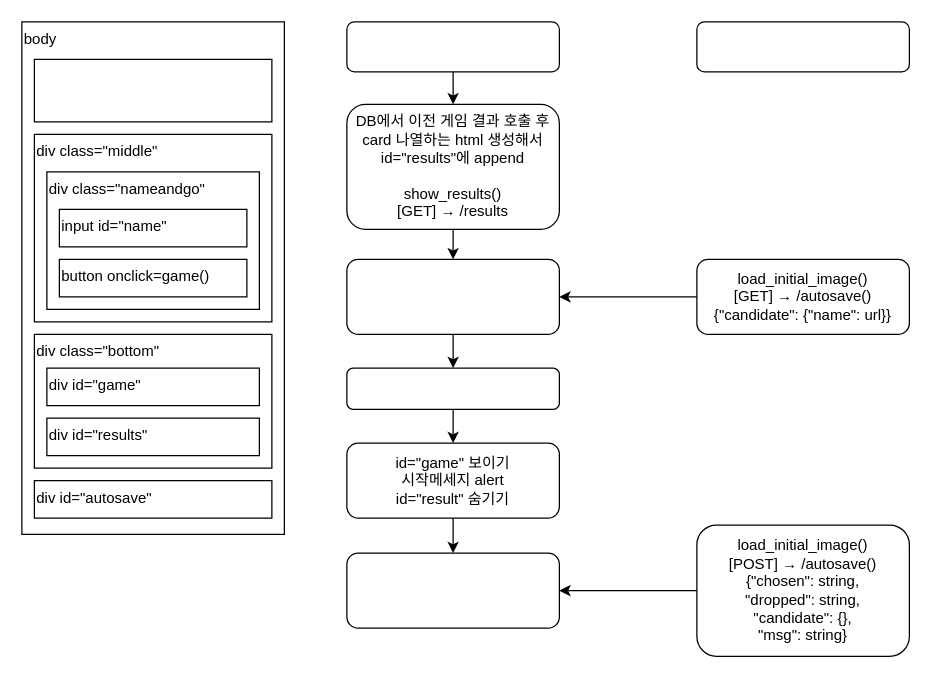
Image size: 931x679. Some labels were removed from this diagram. Here are the shapes that lost their labels. From the top down, the centre of each, then its label:
(x=452, y=46): 페이지 접속
(x=802, y=46): app.py
(x=152, y=90): div class="top"
(x=452, y=296): id="game", "autosave" 숨기기 load_initial_image() 실행
(x=452, y=388): button 클릭 시 game() 실행
(x=452, y=590): 이미지 클릭 시 autosave() 실행
